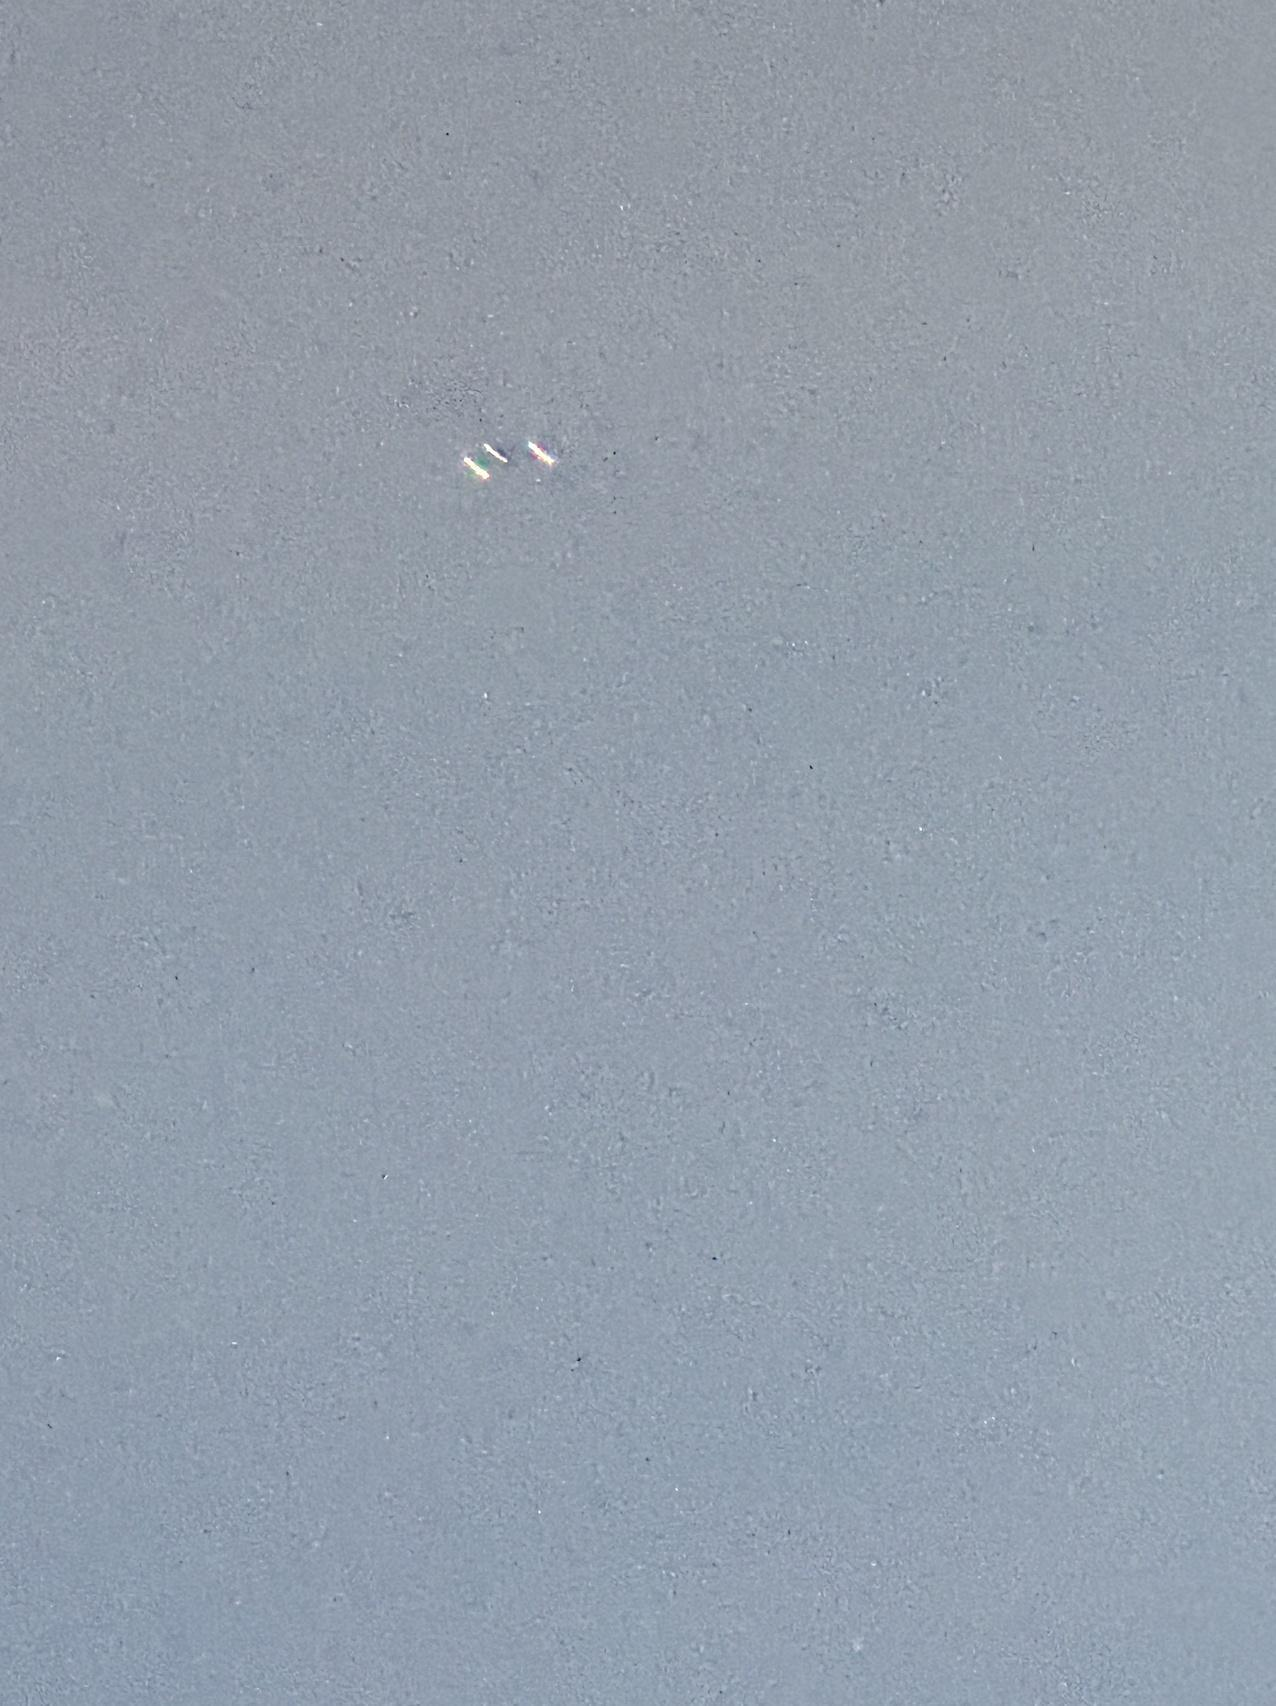Plane: (432, 422, 588, 497)
